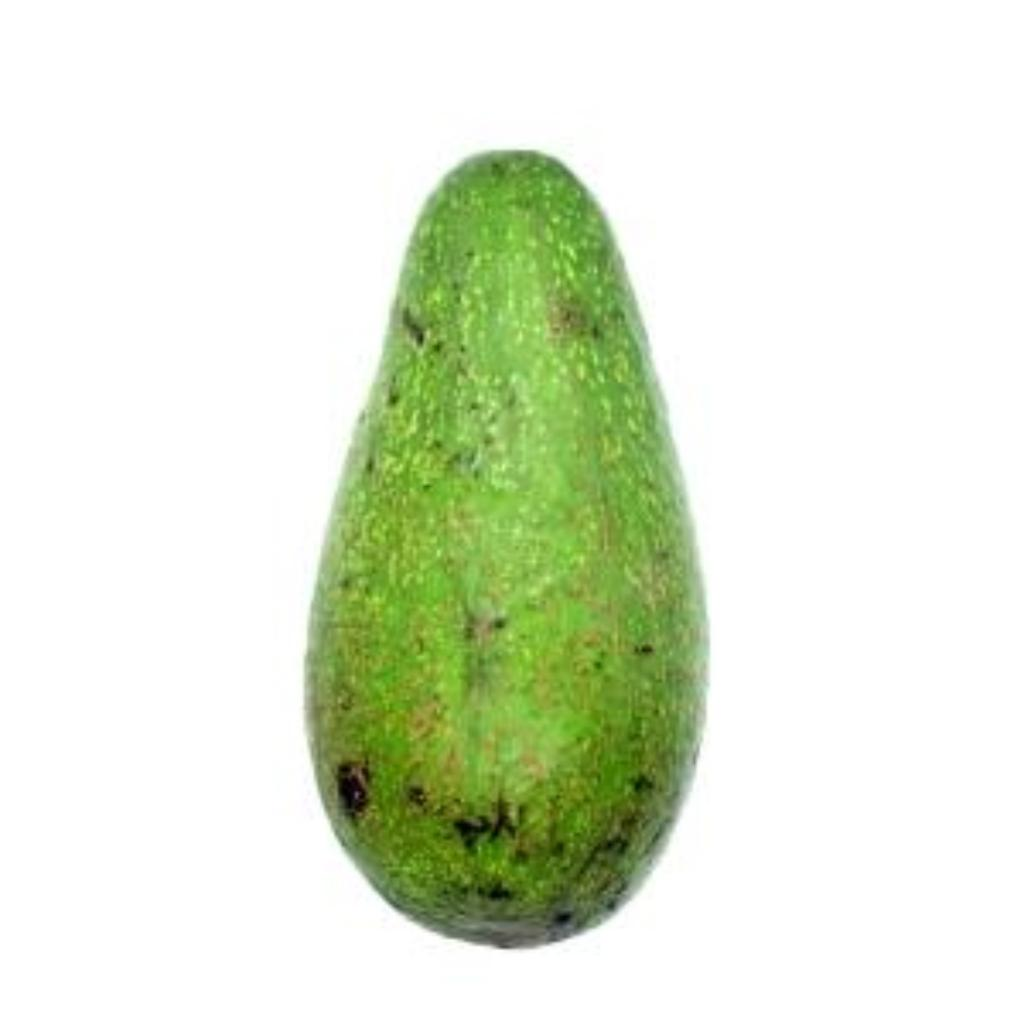cercospora: (302, 124, 740, 953)
